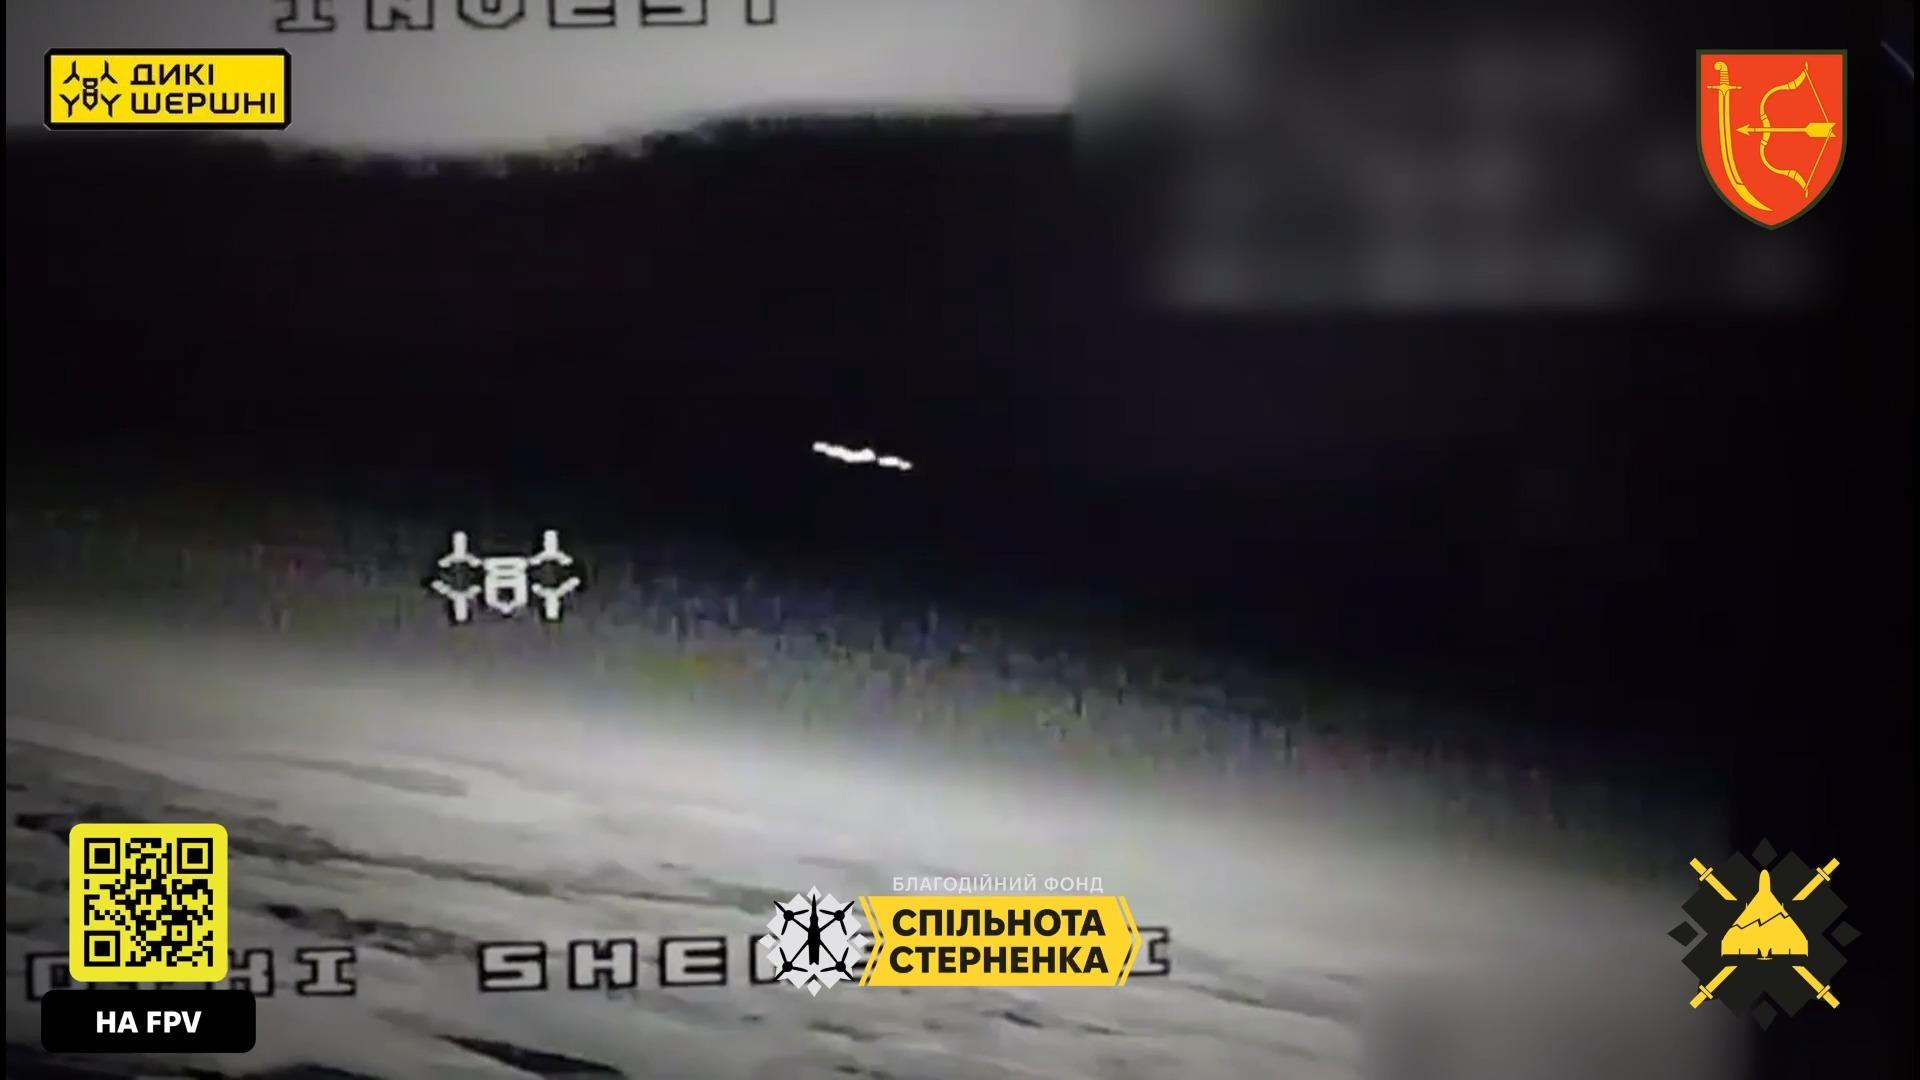Gerbera: (808, 440, 914, 472)
